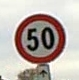limite 50: (13, 12, 66, 65)
